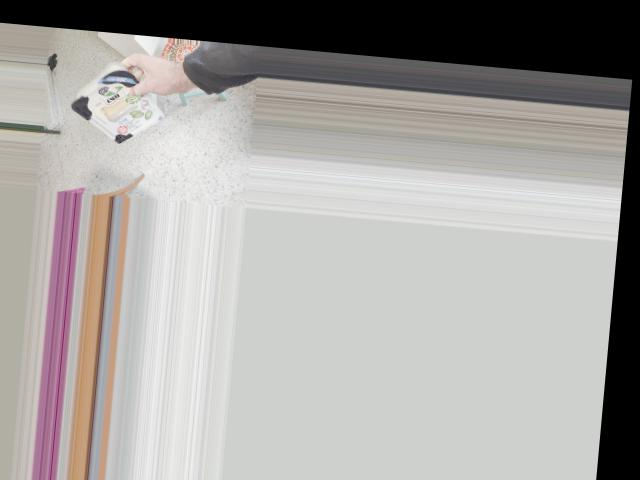cheese: (69, 42, 155, 154)
